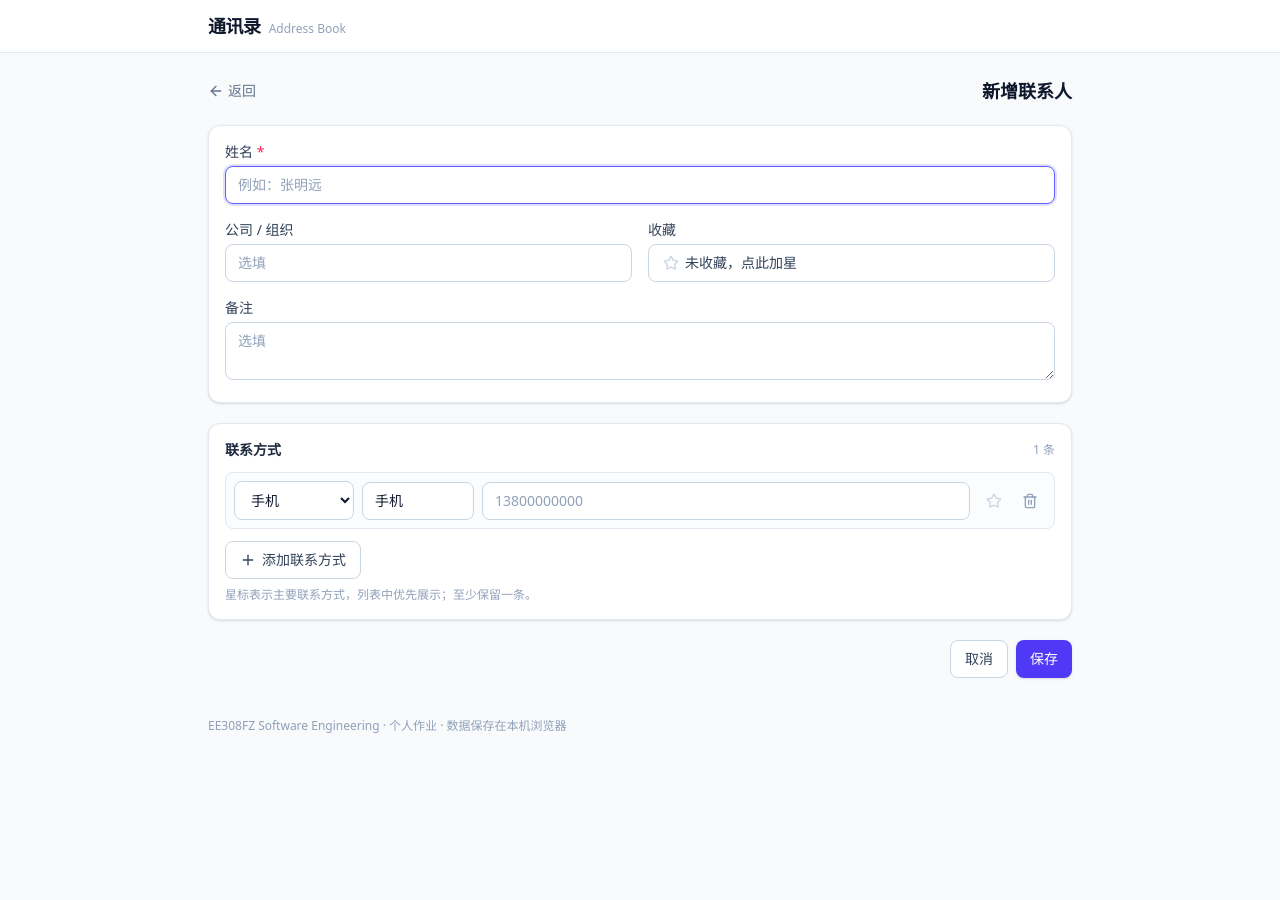
Scenario: 页面冒烟测试 › 新增页校验姓名必填
The width and height of the screenshot is (1280, 900).
Check: the heading "新增联系人" is shown, box x1=982 y1=77 x2=1072 y2=105
Click the button "保存".
click(1044, 659)  # box x1=1016 y1=640 x2=1072 y2=678
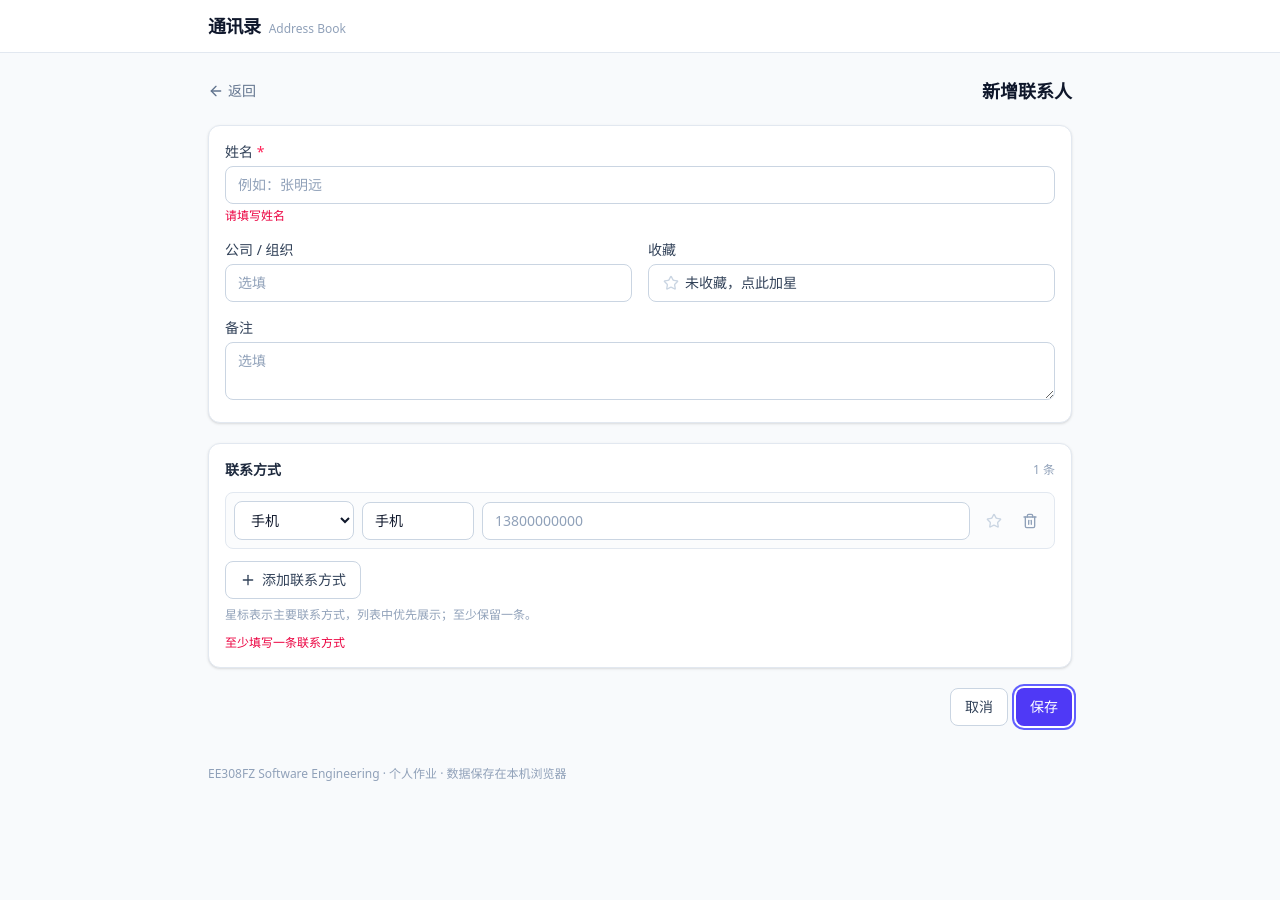
Check: the text "请填写姓名" is shown, box x1=225 y1=207 x2=285 y2=224
